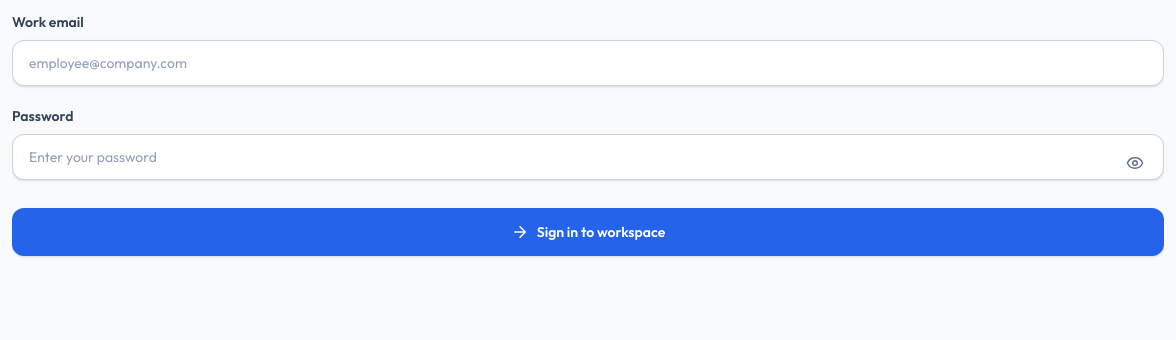
Test: LoginForm › displays an authentication error
Type "wrong@example.com" into the field labelled "Work email".
click(588, 63); type("wrong@example.com")  # box [12, 40, 1164, 86]
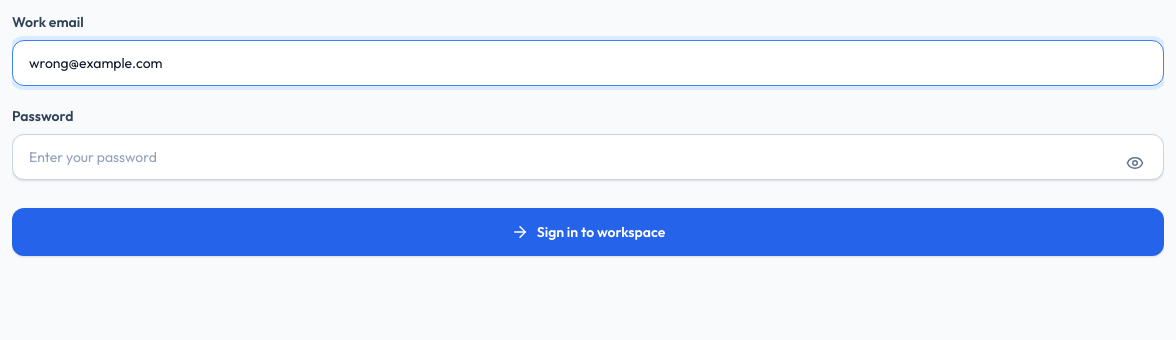
Type "WrongPassword" into the password field labelled "Password".
click(588, 157); type("WrongPassword")  # box [12, 134, 1164, 180]
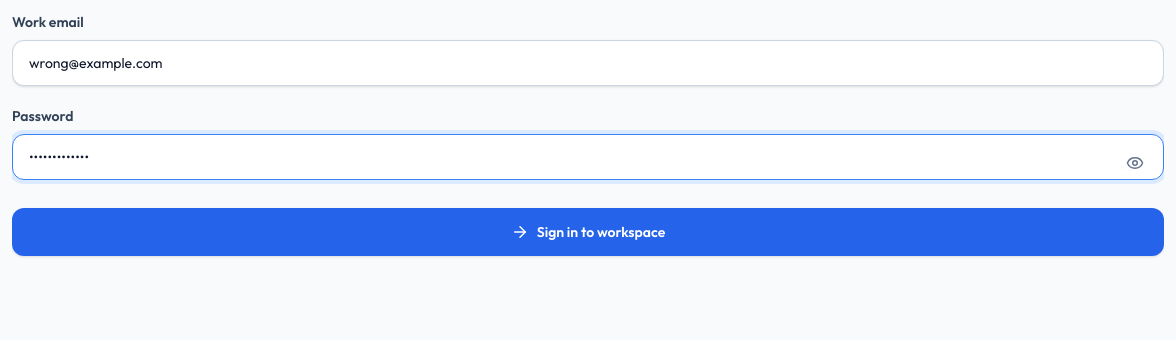
Click the button "Sign in to workspace".
click(588, 232)  # box [12, 208, 1164, 256]
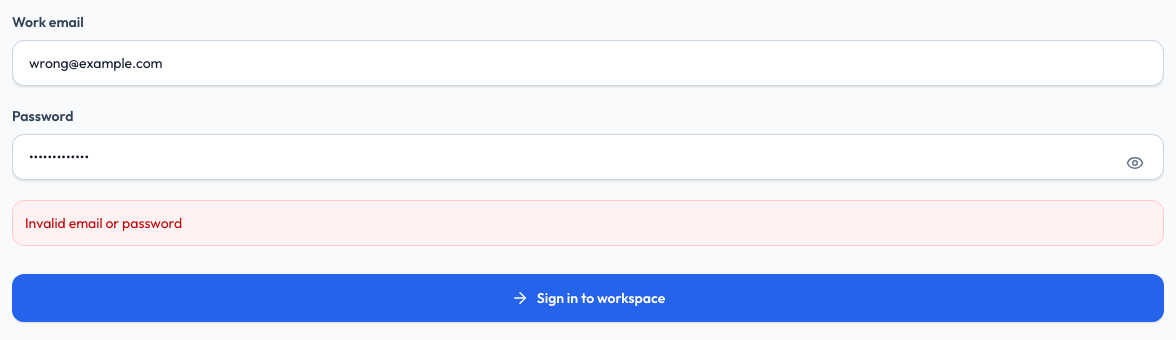
Result: the text "Invalid email or password" is shown at [12, 200, 1164, 246]
